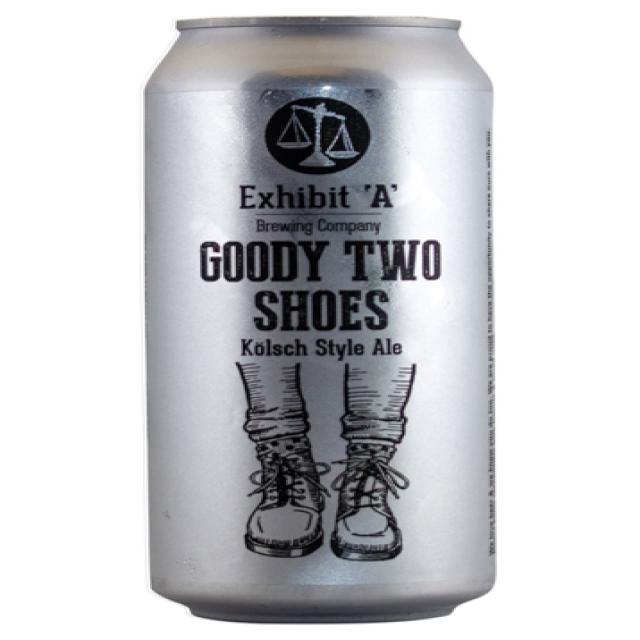non-organic waste: (113, 1, 547, 640)
